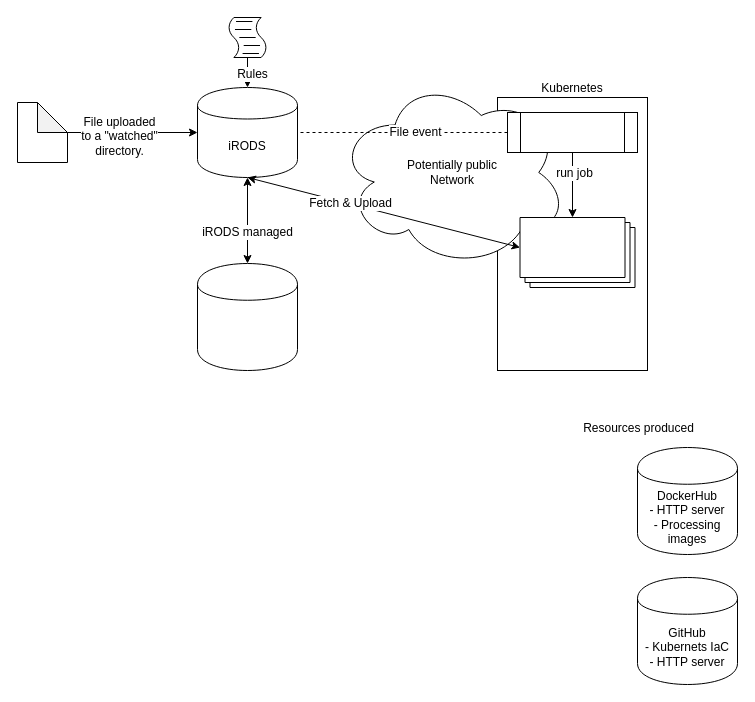
This 755x702 diagram has some shape labels left out. The centre of each missing label's shape, as x and y in pixels:
"HTTP server" belongs at [572,132].
"Kubernetes Job - Processing image" belongs at [577,252].
"Storage" belongs at [247,316].
